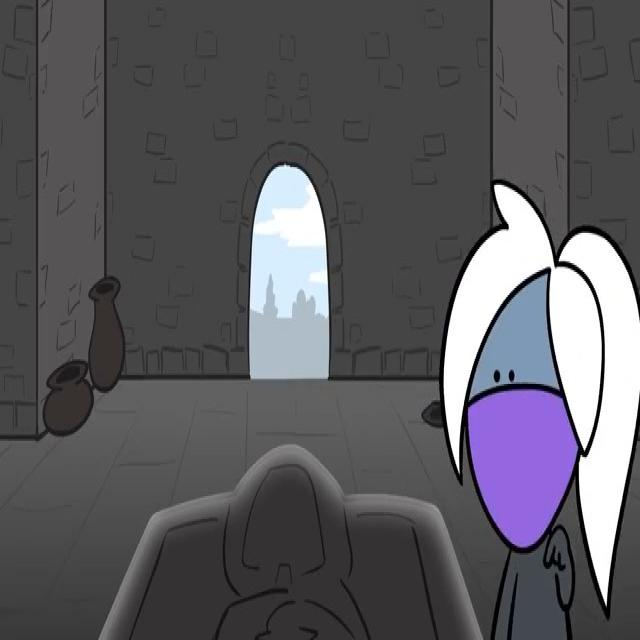miss Demeanor: (438, 180, 639, 638)
